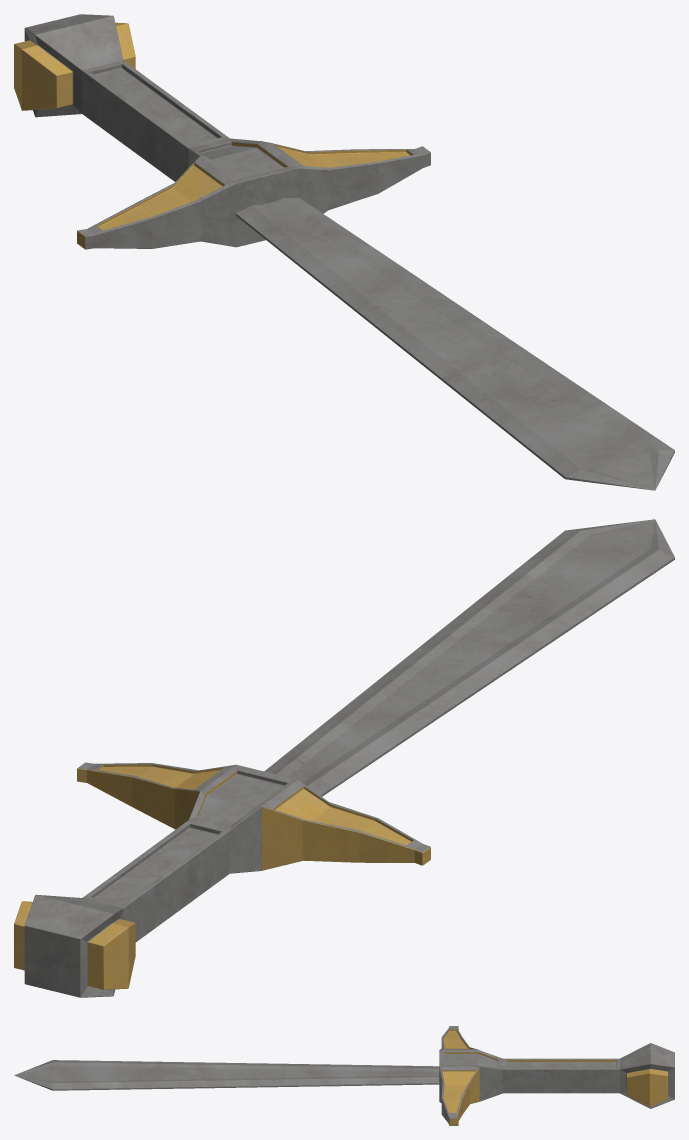
The model's file is Sword FBX.fbx.
3 renders of one model, top to bottom at view 1: azimuth 30°, elevation 25°; view 2: azimuth 150°, elevation 25°; view 3: azimuth 270°, elevation 25°, orthographic. The views are drawn at different scales.
Parts seen in each view (by area): view 1: pCube2, pCube3; view 2: pCube2, pCube3; view 3: pCube2, pCube3.
Boxes of the visible parts, x1=… form: pCube2: x1=14, y1=14, x2=430, y2=249; pCube3: x1=235, y1=197, x2=674, y2=490; pCube2: x1=14, y1=762, x2=430, y2=997; pCube3: x1=264, y1=519, x2=674, y2=796; pCube2: x1=439, y1=1026, x2=674, y2=1125; pCube3: x1=14, y1=1060, x2=439, y2=1090.
Bounding box in the file's own units: 4.38 × 0.998 × 13.23.
Materials: 2 (2 with a texture image).
